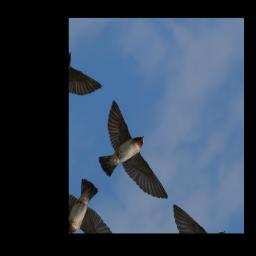Swallow: (79, 99, 183, 225)
